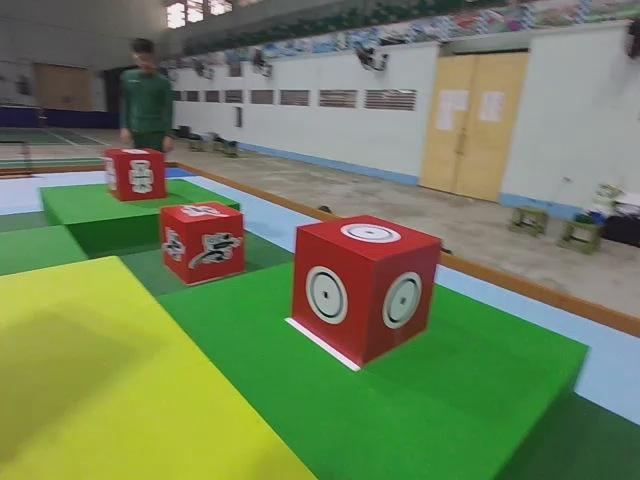R1: (156, 198, 248, 289)
R2 Real: (287, 212, 442, 371), (105, 144, 167, 203)
